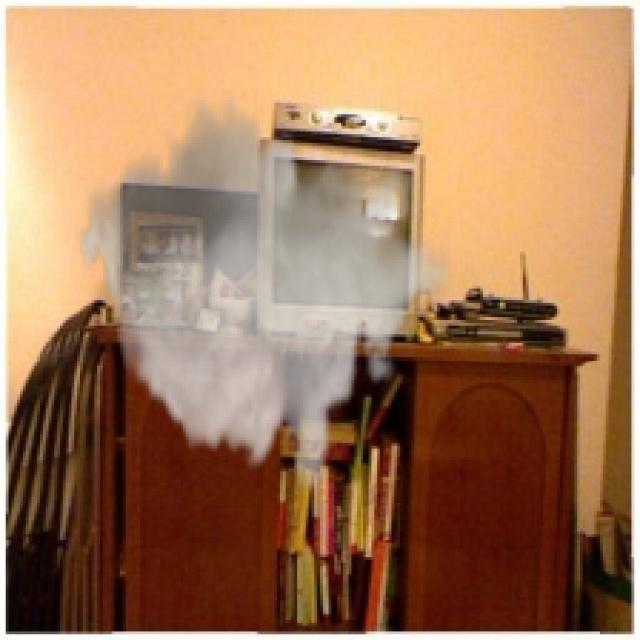Smoke: (74, 88, 452, 494)
